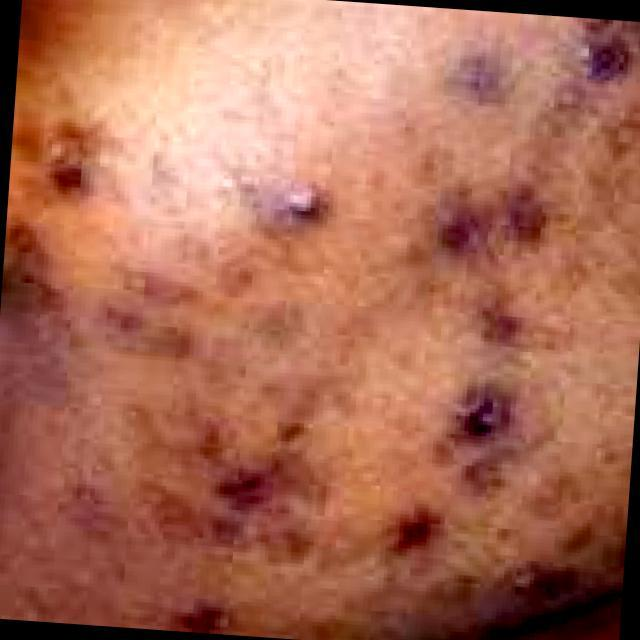pigmentation: (61, 106, 557, 522)
